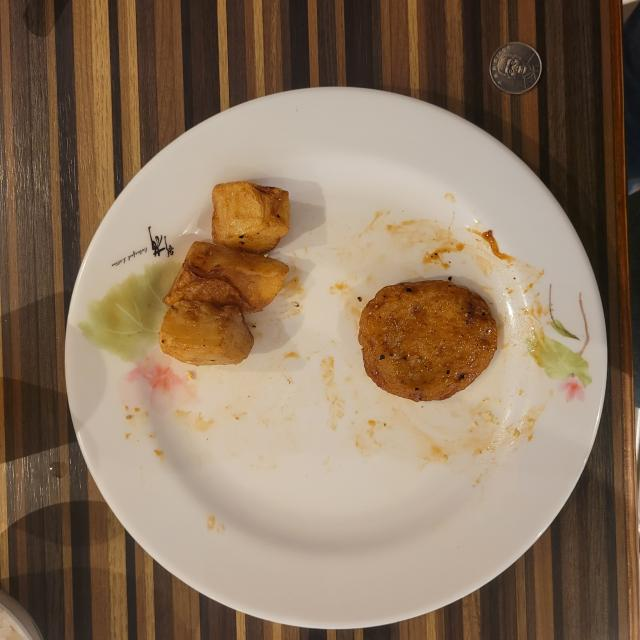coin: (490, 42, 541, 94)
fish cake: (359, 280, 498, 401)
fried potato: (160, 181, 290, 364)
